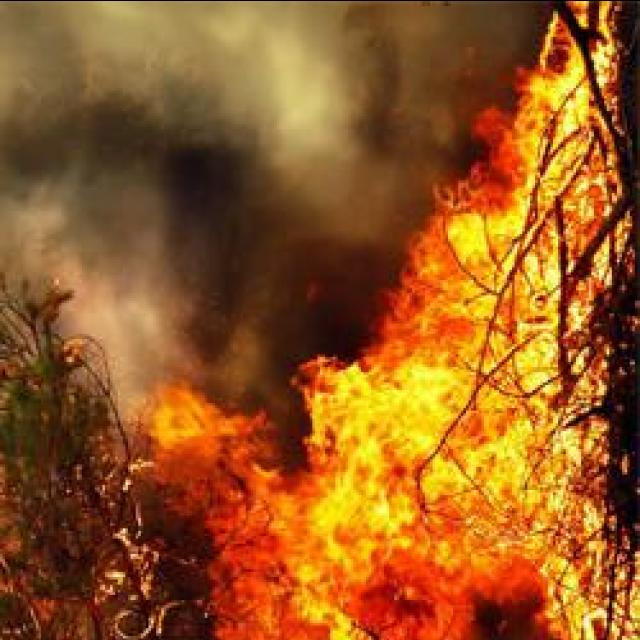fire: (490, 5, 630, 306), (282, 476, 404, 548), (322, 370, 416, 446), (296, 532, 372, 618), (398, 338, 478, 412), (151, 393, 227, 447), (464, 424, 528, 486), (448, 218, 489, 255), (422, 462, 464, 498)
smoke: (289, 0, 482, 228), (160, 146, 258, 327), (0, 0, 90, 192), (101, 76, 242, 174), (232, 245, 364, 344), (0, 159, 80, 281)
